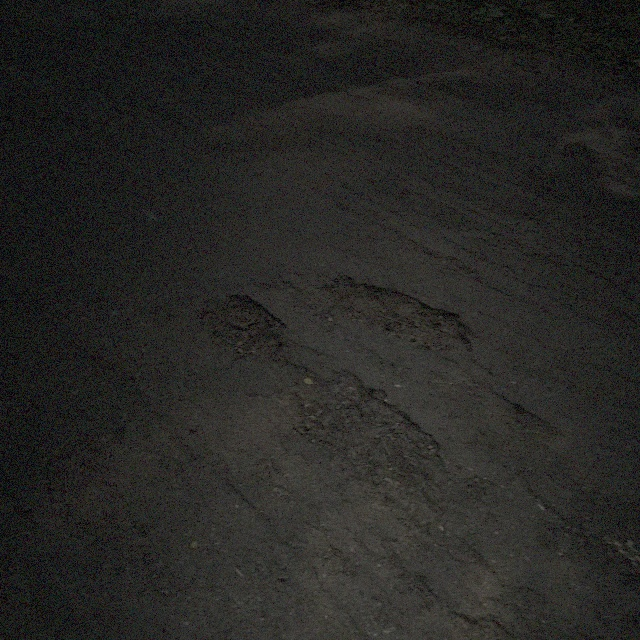pothole: (285, 370, 447, 490), (316, 271, 476, 353), (195, 292, 289, 364)
